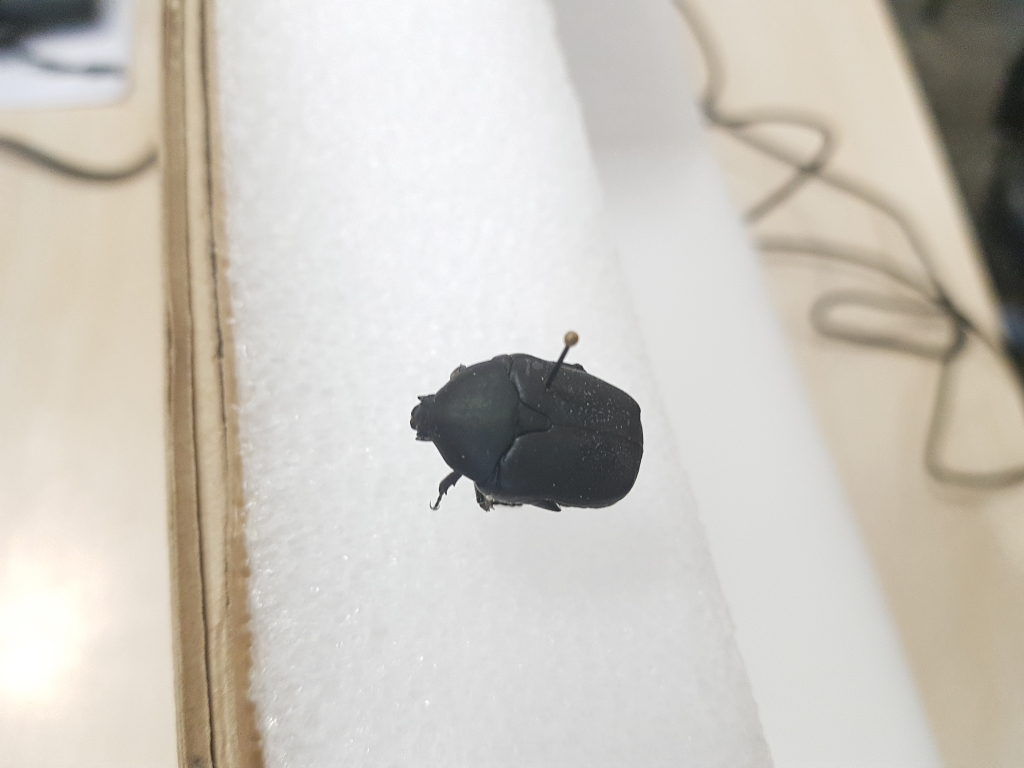Protaetia_afflicta: (392, 347, 648, 516)
